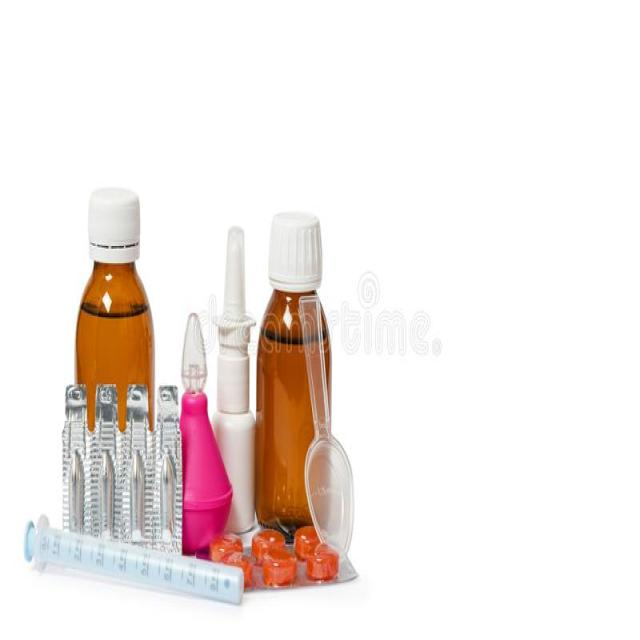B3: (246, 192, 345, 528), (61, 172, 159, 438), (8, 514, 249, 618), (202, 521, 375, 603), (48, 368, 93, 539), (151, 380, 186, 549)
